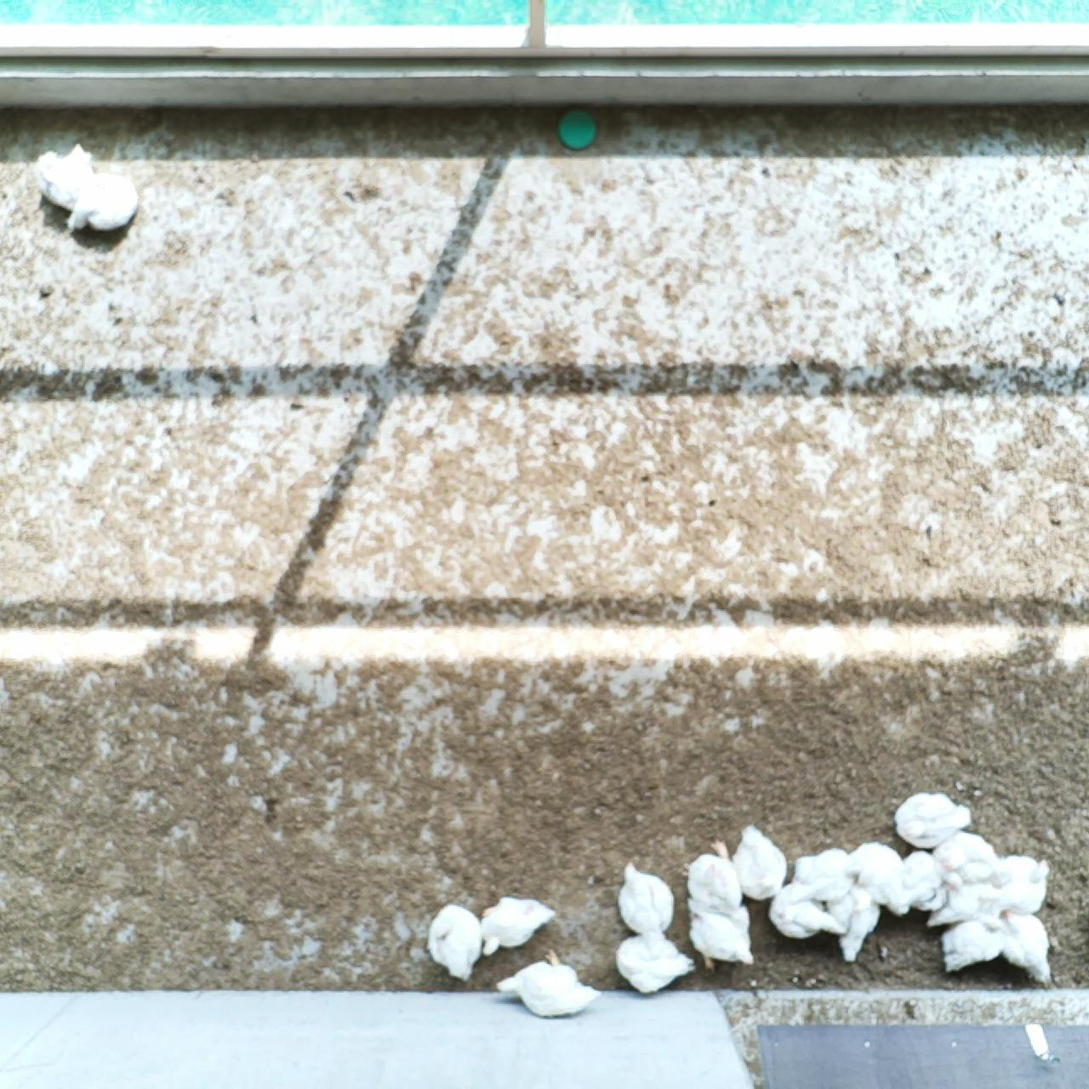chicken: (493, 950, 603, 1023), (613, 930, 700, 996), (684, 898, 758, 973), (843, 840, 911, 919), (680, 838, 748, 916), (64, 169, 140, 238), (614, 857, 676, 940), (478, 892, 557, 957), (891, 789, 973, 851), (731, 822, 792, 905), (824, 880, 882, 966), (426, 900, 483, 983), (767, 882, 849, 939), (30, 142, 97, 211), (983, 854, 1054, 918), (899, 848, 963, 918), (998, 908, 1054, 986), (940, 911, 1003, 975), (789, 845, 857, 904), (931, 830, 1005, 884), (925, 881, 998, 932)
